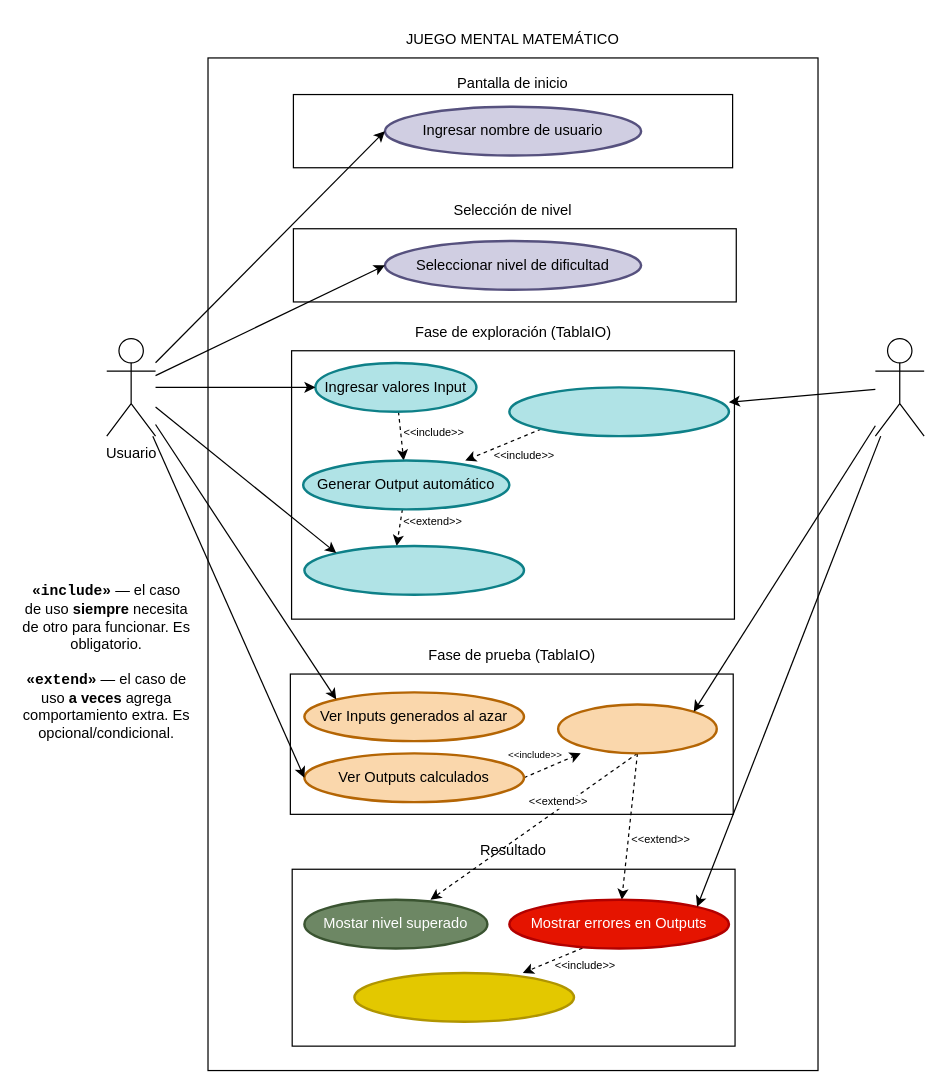
This 947x1092 diagram has some shape labels left out. Each missing label, with the box of its shape:
Aplicar regla según dificultad: (508, 386, 730, 437)
Declarar que conoce la regla: (303, 544, 525, 595)
Sistema: (874, 337, 924, 436)
Validar respuestas: (556, 703, 717, 754)
Volver a intentar el nivel: (353, 971, 575, 1022)
